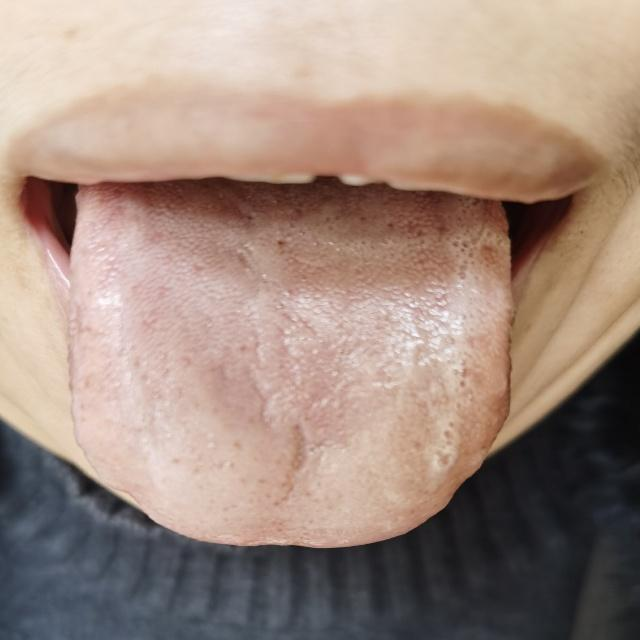baitaishe: (65, 198, 514, 549)
huataishe: (417, 331, 474, 486)
